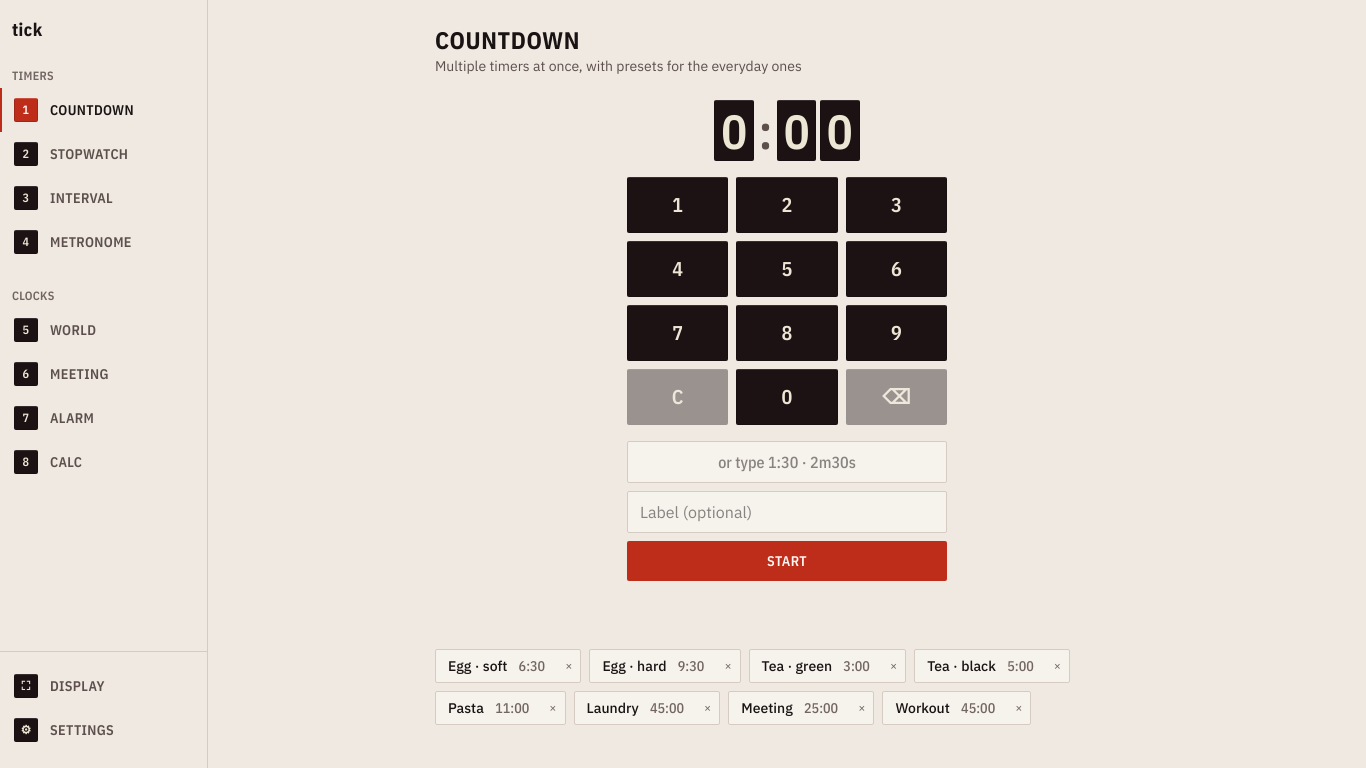
Test: every tool, end to end › countdown: rings from another tool, and the bar stops it
Type "10" into the field named "Duration" at coordinates (787, 462), box [627, 441, 947, 483]
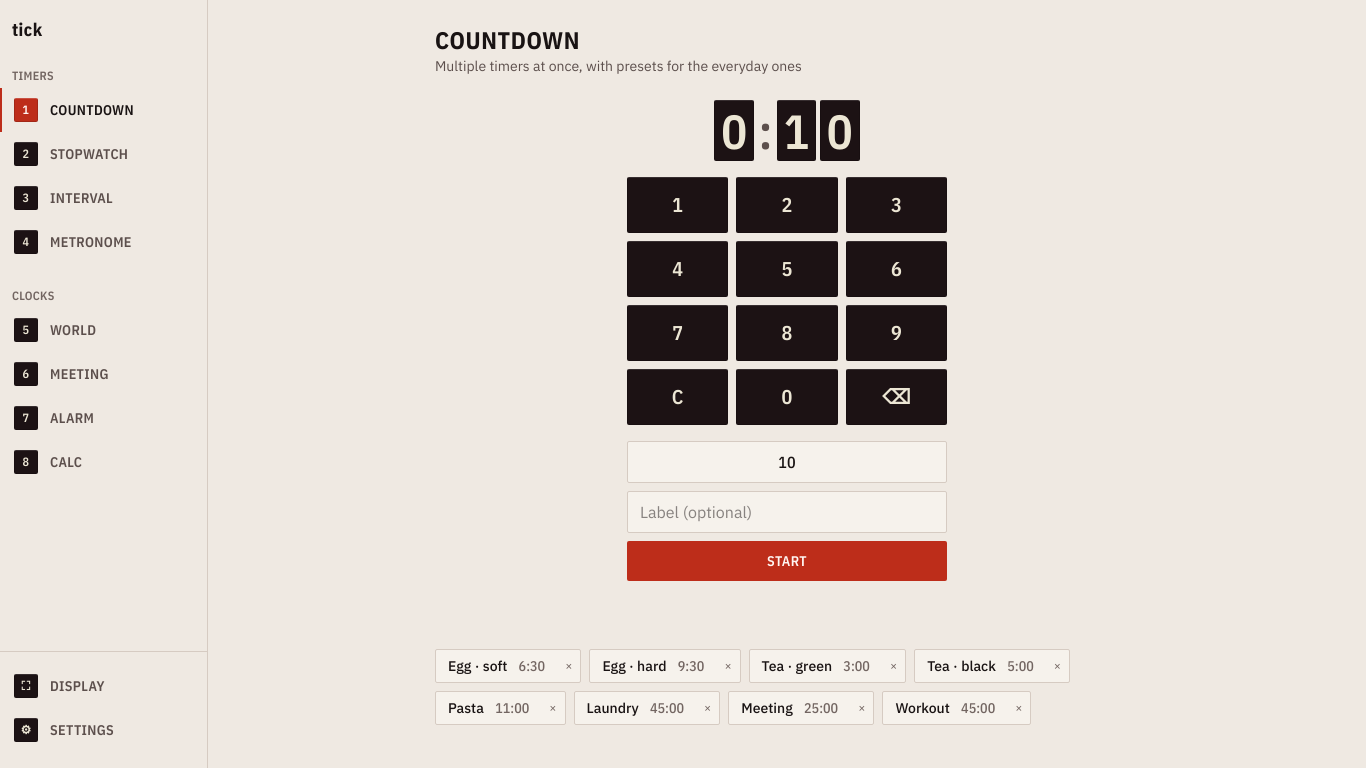
Click the button "Start" at coordinates (787, 561), box [627, 541, 947, 581]
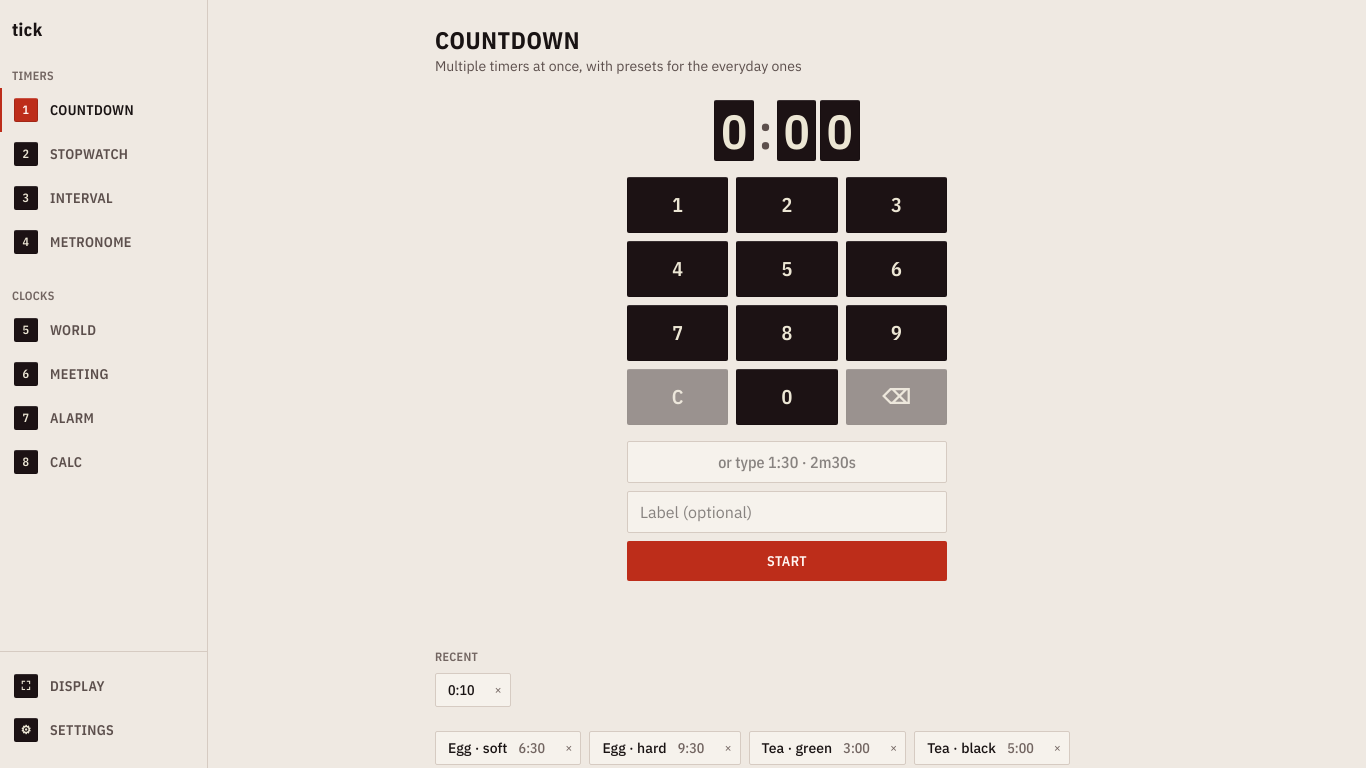
Press 2
Wait 300 ms
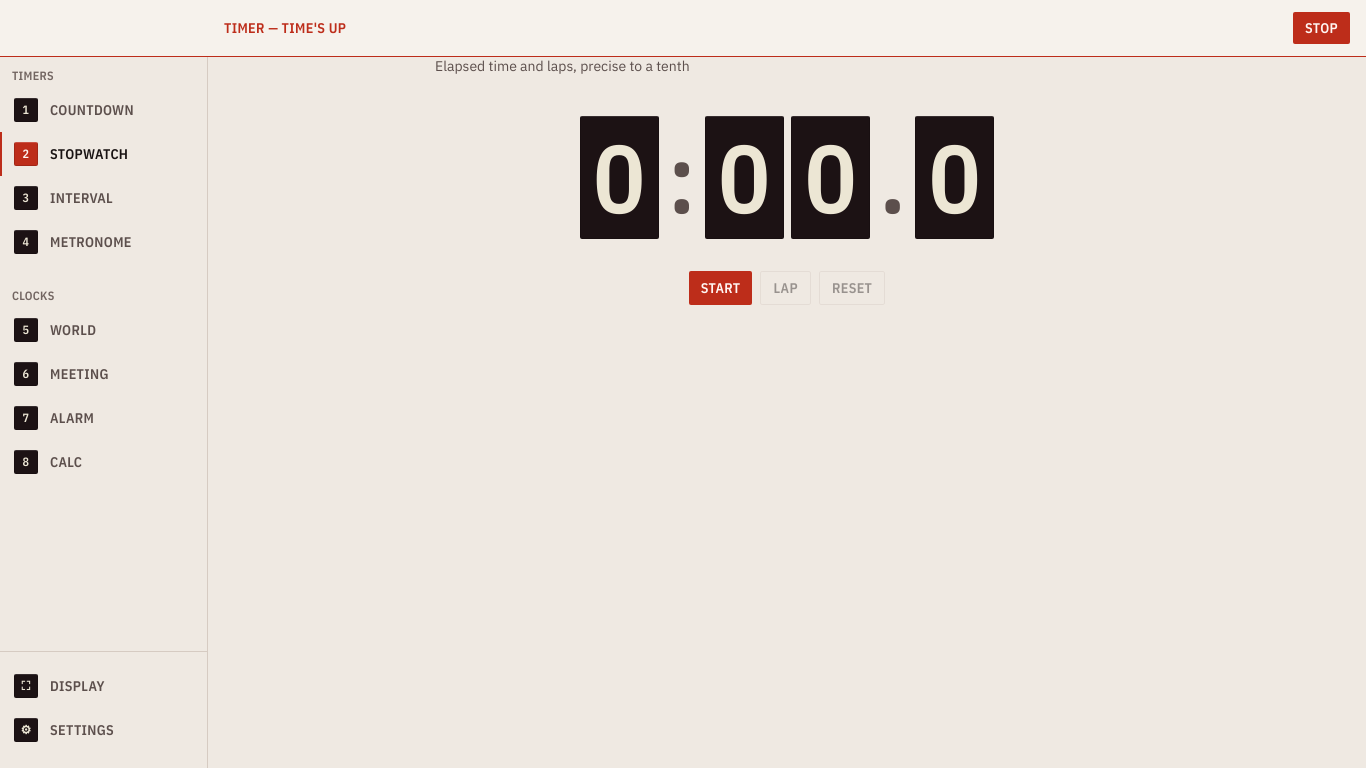
Result: the heading "Stopwatch" is shown at [435, 24, 571, 56]
Result: the message named "Timer ringing" shows "time's up" at [224, 19, 346, 37]
Click the button with aria-label "Stop ringing" at coordinates (1322, 28), box [1293, 12, 1350, 44]
Wait 300 ms
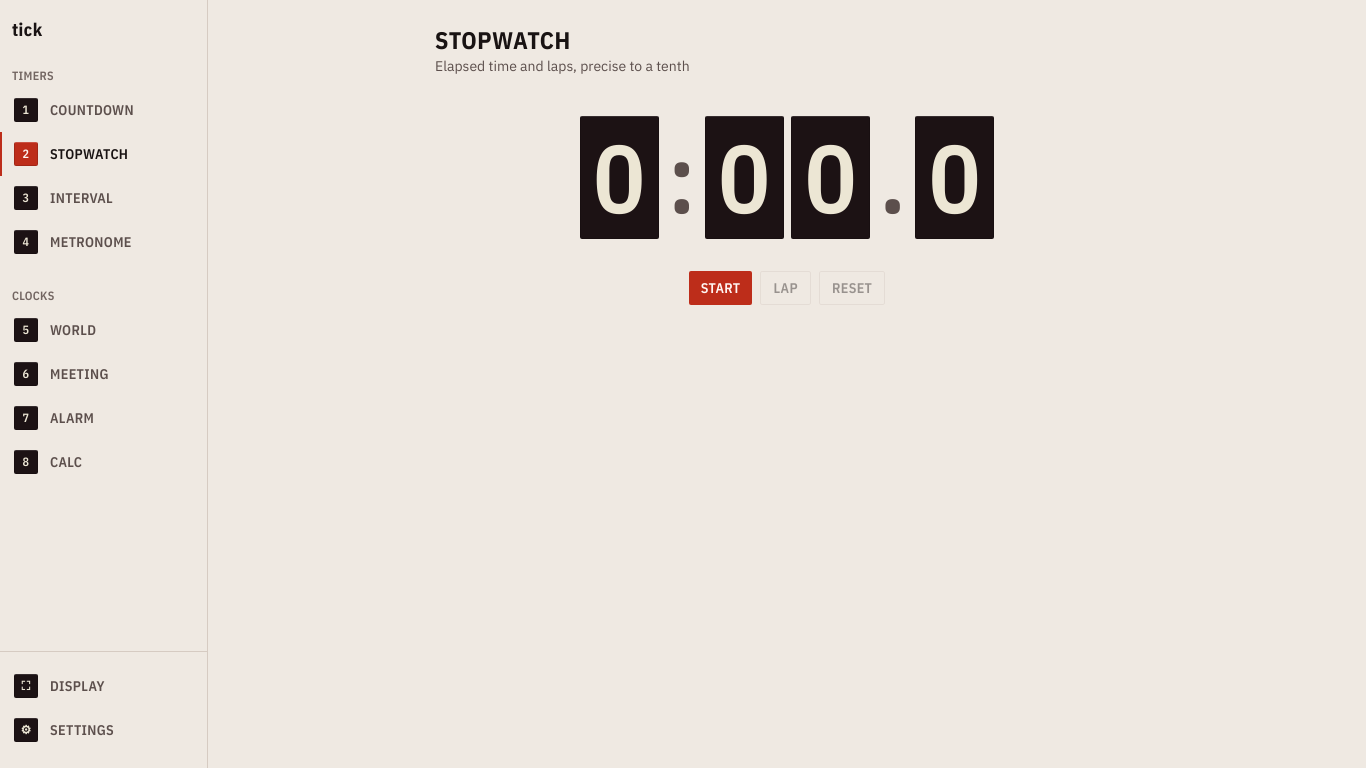
Result: the message "Timer — time's up Stop" is gone
